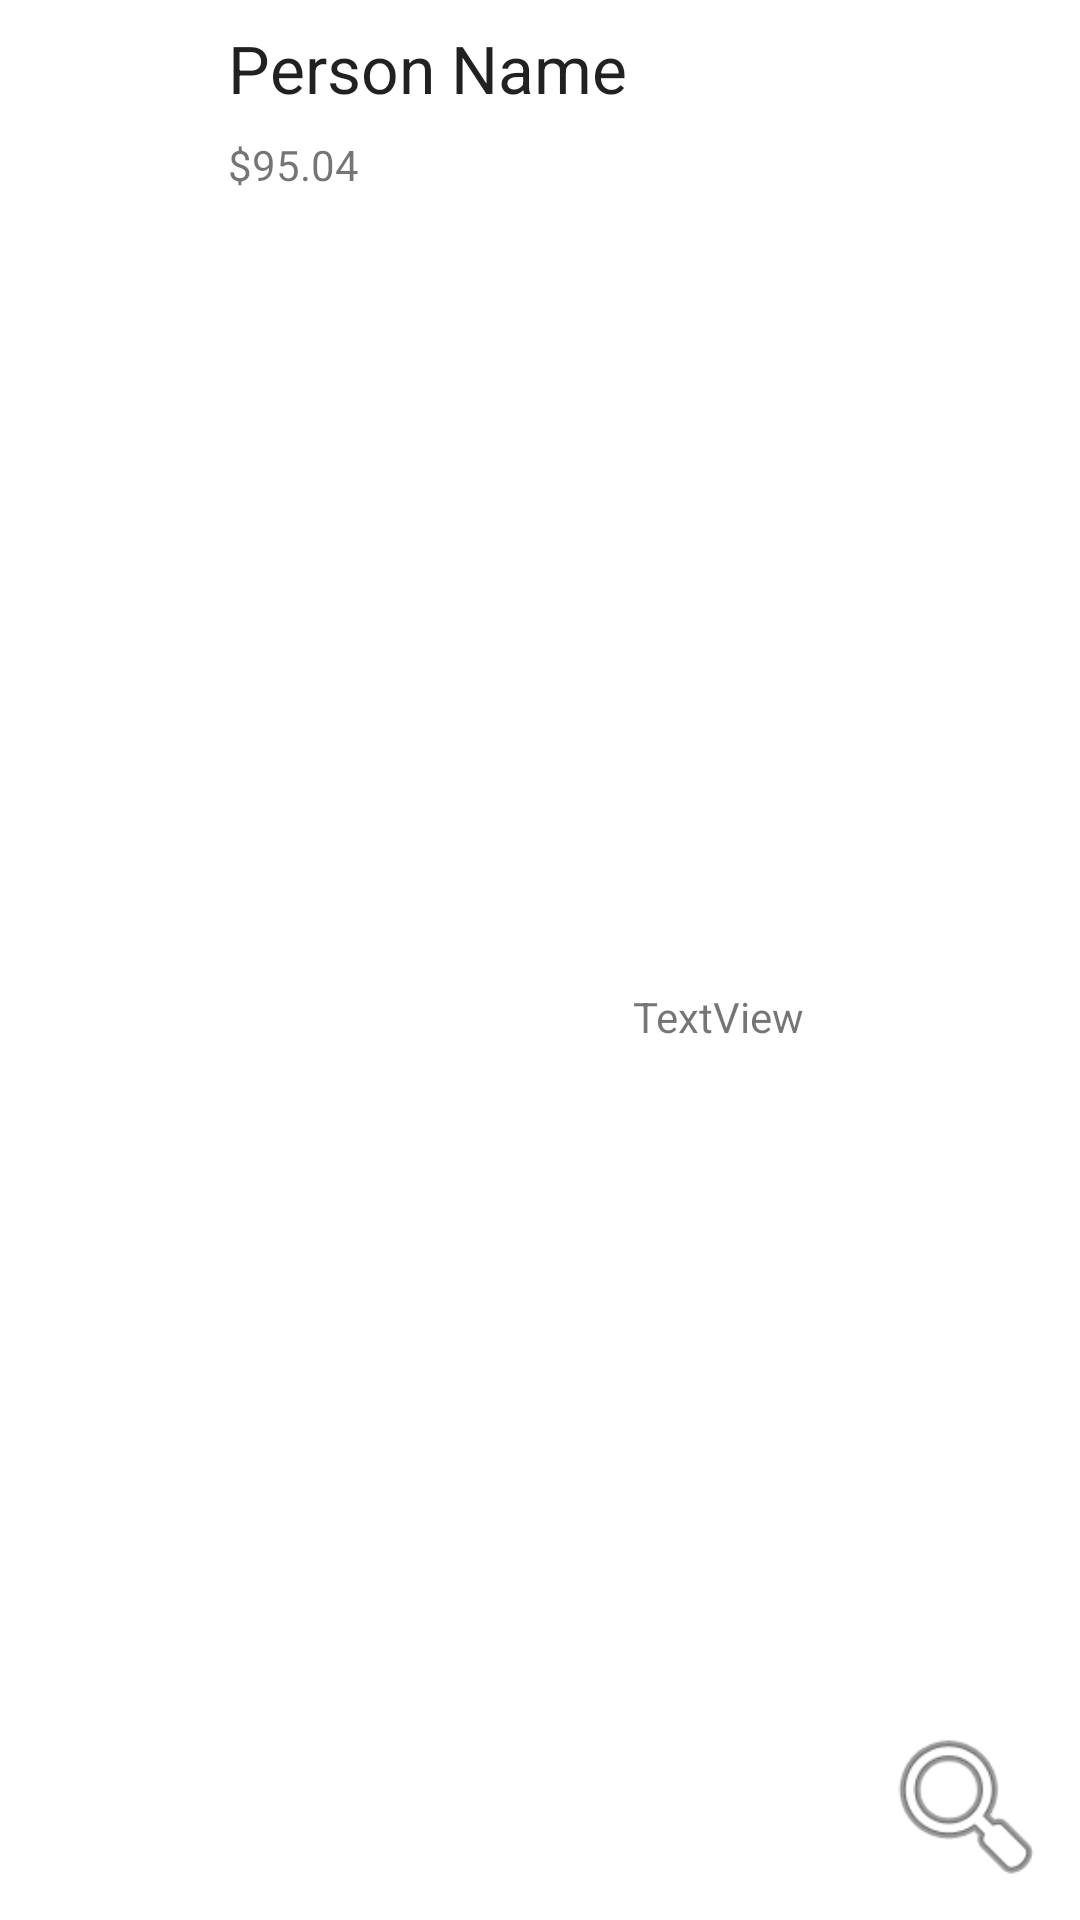

Where icons sit on this 1080 x 1920 app screen, as [left=x1, top=y1, right=x2, bottom=y2]:
search: [left=899, top=1740, right=1033, bottom=1874]
